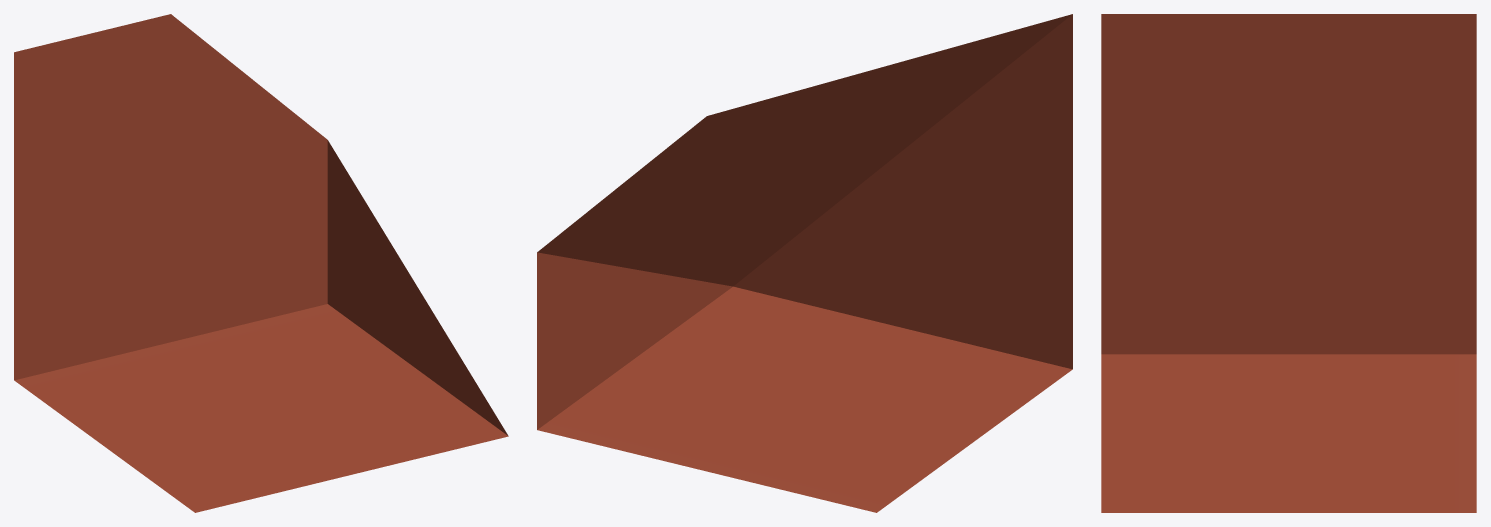
File: r5c3_border_brown.gltf
3 views of the same model, side by side, from view 1: azimuth 30°, elevation 25°; view 2: azimuth 150°, elevation 25°; view 3: azimuth 270°, elevation 25° (orthographic). The views are drawn at different scales.
Parts seen in each view (by area): view 1: r5c3_border_brown; view 2: r5c3_border_brown; view 3: r5c3_border_brown.
Part boxes in pixels (left/top/right/bottom): r5c3_border_brown: left=14, top=14, right=508, bottom=512; r5c3_border_brown: left=537, top=14, right=1072, bottom=512; r5c3_border_brown: left=1101, top=14, right=1476, bottom=512.
Size of the model in its own units: 2.1 by 2.1 by 2.1.
Materials: 1 (1 with a texture image).
